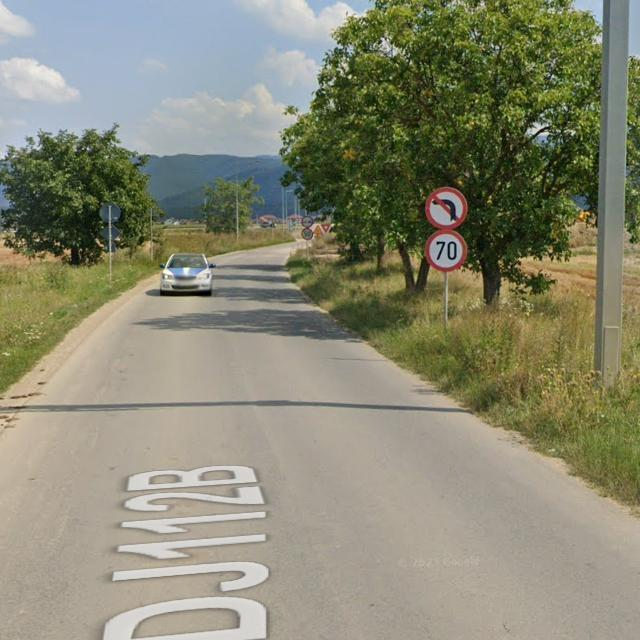forb_speed_over_70: (428, 231, 468, 273)
